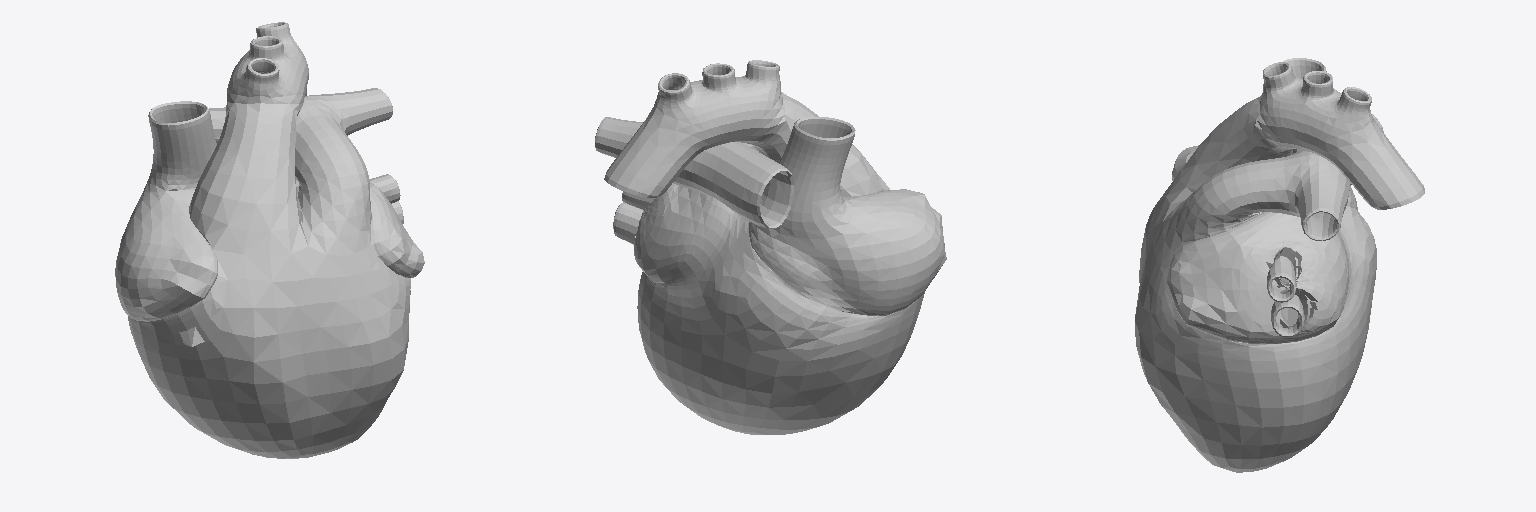
The model's file is Heart animation.obj.
3 renders of one model, left to right at view 1: azimuth 30°, elevation 25°; view 2: azimuth 150°, elevation 25°; view 3: azimuth 270°, elevation 25°, orthographic.
Visible parts, largest first — view 1: Human_Heart.001; view 2: Human_Heart.001; view 3: Human_Heart.001.
Part boxes in pixels (bbox=[...]): Human_Heart.001: bbox=[115, 22, 424, 458]; Human_Heart.001: bbox=[595, 60, 946, 434]; Human_Heart.001: bbox=[1135, 58, 1424, 472].
Bounding box in the file's own units: 3.48 × 4.32 × 2.94.